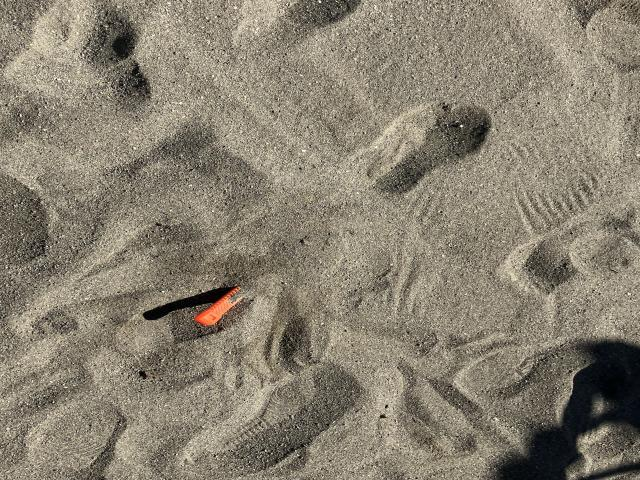hammer: (197, 211, 332, 329)
